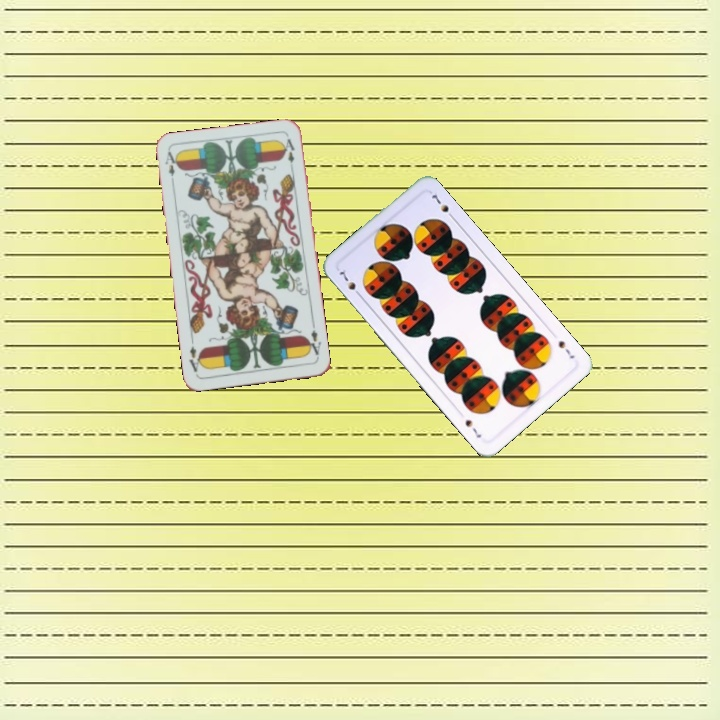EA: (303, 320, 324, 360), (161, 147, 181, 188)
S7: (335, 265, 364, 300), (554, 337, 577, 361)
